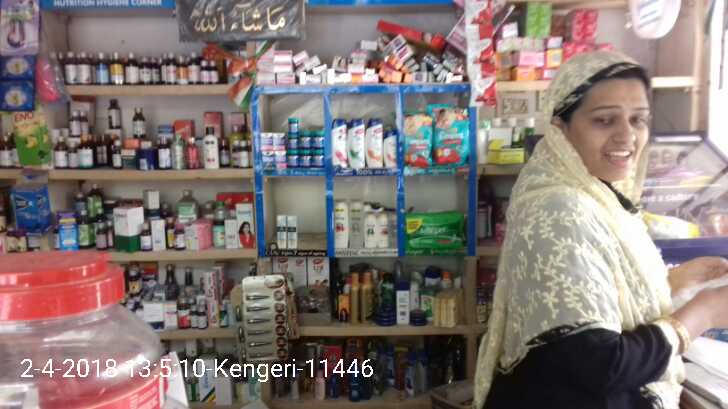vicks: (259, 117, 326, 166)
